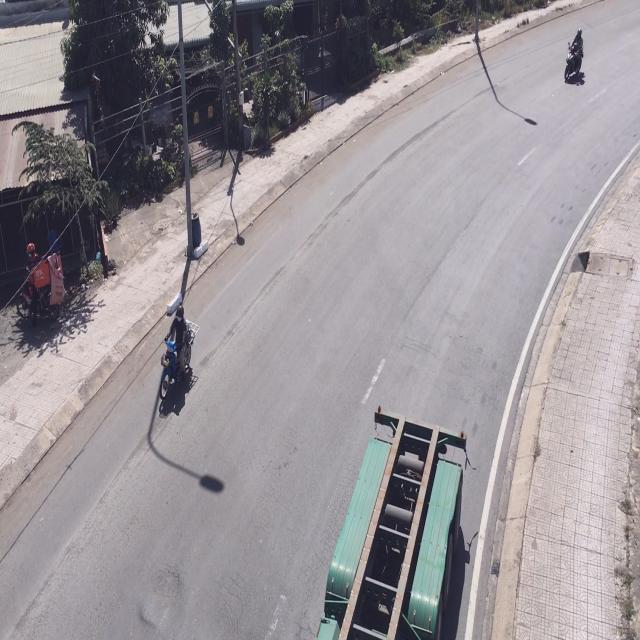motorbike: (161, 304, 196, 415), (564, 25, 588, 88)
truck: (312, 403, 470, 640)
